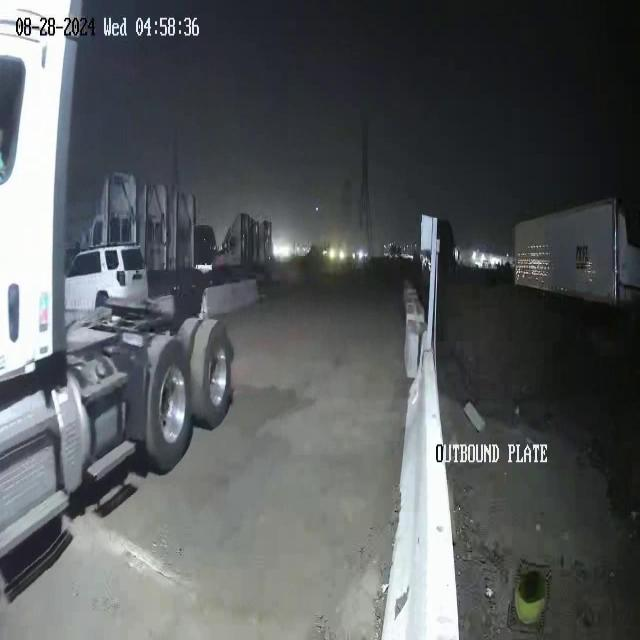TRUCK_OUT: (1, 2, 250, 600)
